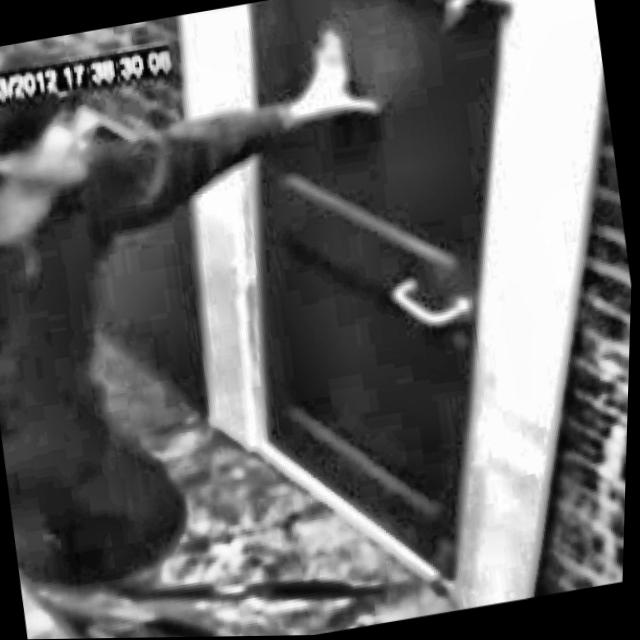burglary: (0, 0, 525, 603)
